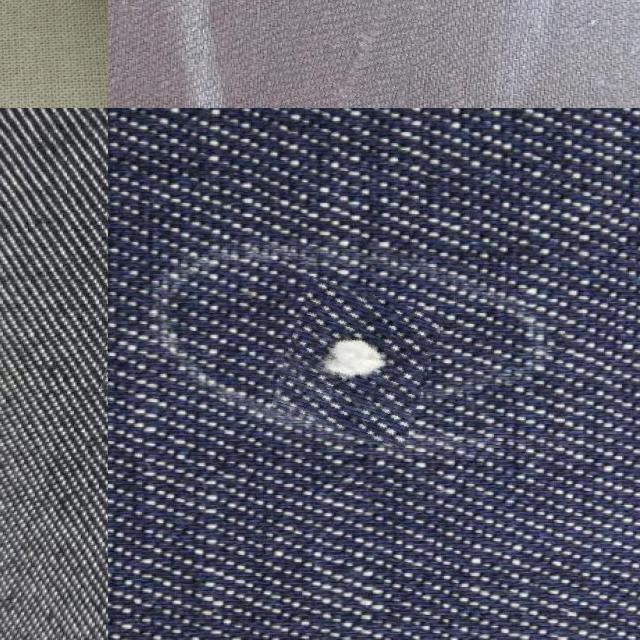stains: (278, 285, 434, 442), (245, 0, 456, 108)
